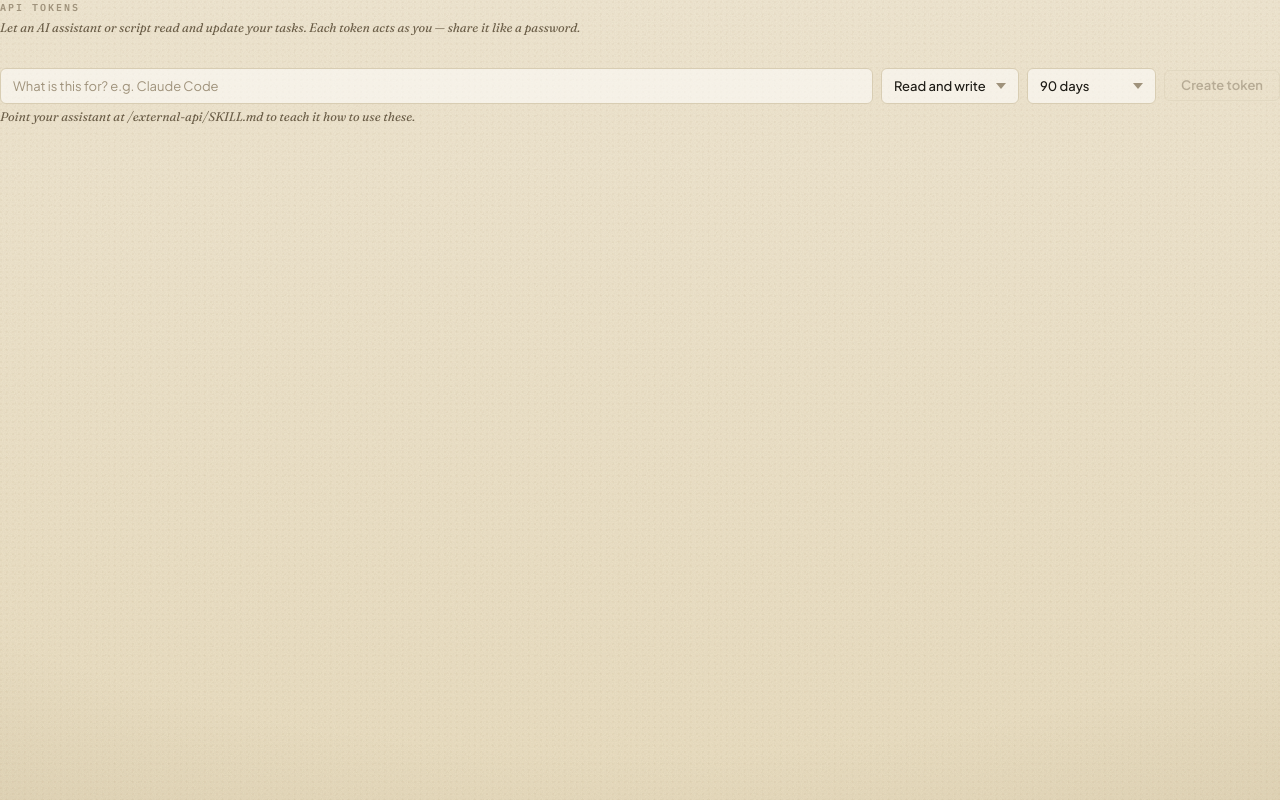
Test: ApiTokens › shows the plaintext secret once after creating, with a copy-now warning
This screenshot has width=1280, height=800.
Type "Scripts" into the field with placeholder "What is this for? e.g. Claude Code" at (437, 86), box [0,68,873,104]
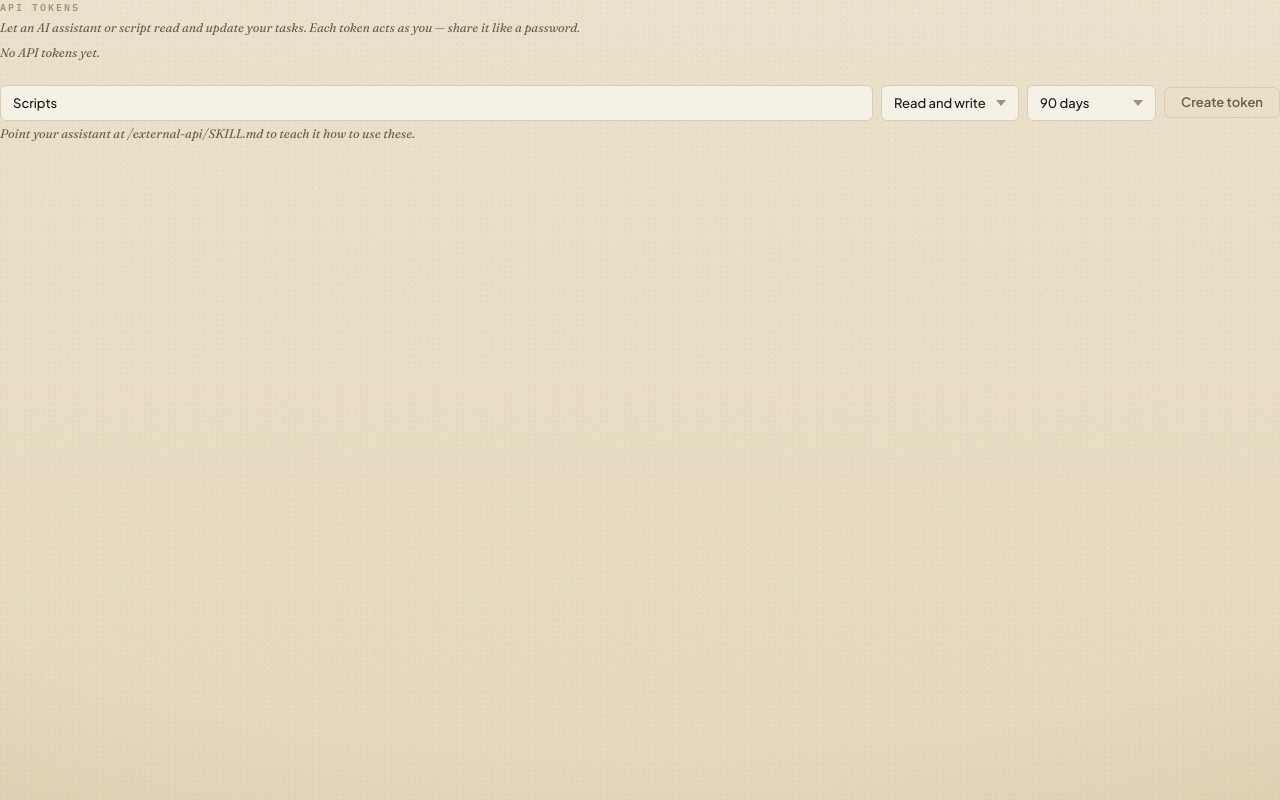
Click the button "Create token" at (1222, 102), box [1164,87,1279,118]
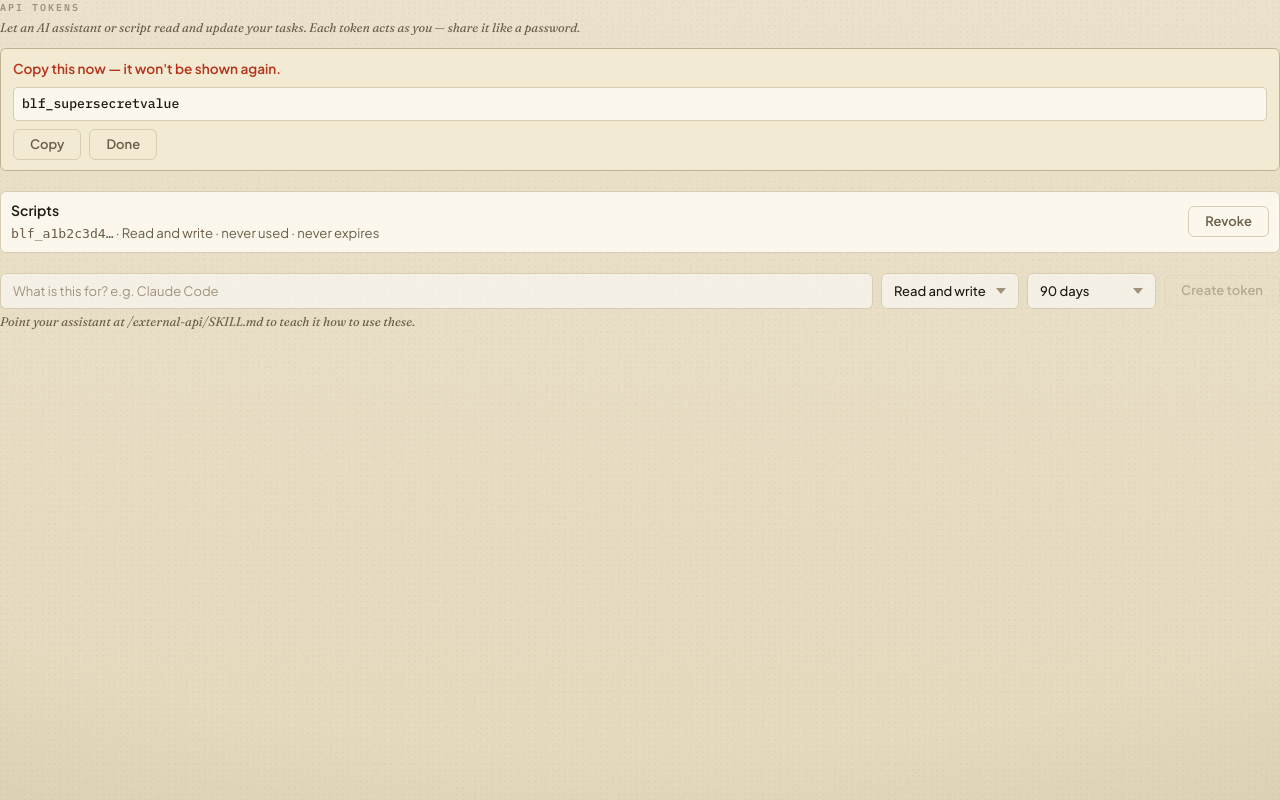
Expected: the text "blf_supersecretvalue" is shown, [13,87,1267,121]
Expected: the text "Copy this now — it won't be shown again." is shown, [13,60,281,77]
